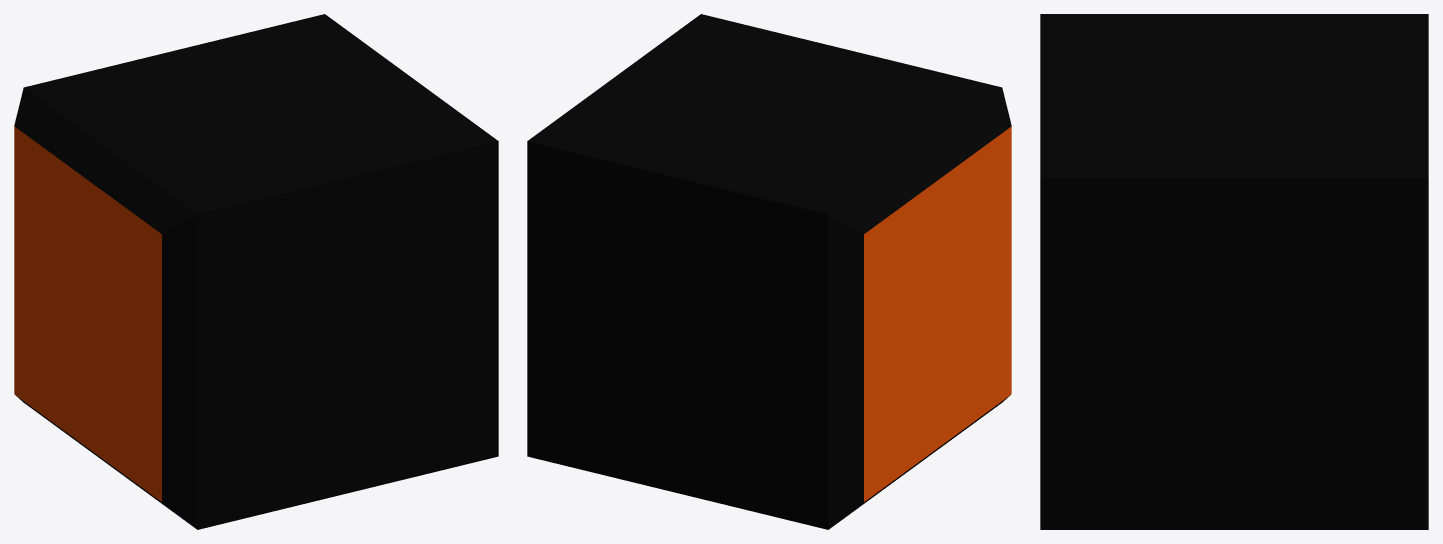
The model's file is rubiks_cube_12.glb.
3 renders of one model, left to right at view 1: azimuth 30°, elevation 25°; view 2: azimuth 150°, elevation 25°; view 3: azimuth 270°, elevation 25°, orthographic. The views are drawn at different scales.
Parts seen in each view (by area): view 1: Cube12.001; view 2: Cube12.001; view 3: Cube12.001.
Boxes of the visible parts, x1,y1,x2,y2 form: Cube12.001: (14, 14, 498, 529); Cube12.001: (527, 14, 1011, 529); Cube12.001: (1040, 14, 1428, 529).
Size of the model in its own units: 2.15 by 2 by 2.
